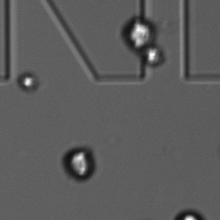Living Cell: (63, 145, 96, 182), (123, 16, 157, 51), (140, 45, 167, 67), (18, 73, 38, 92)
